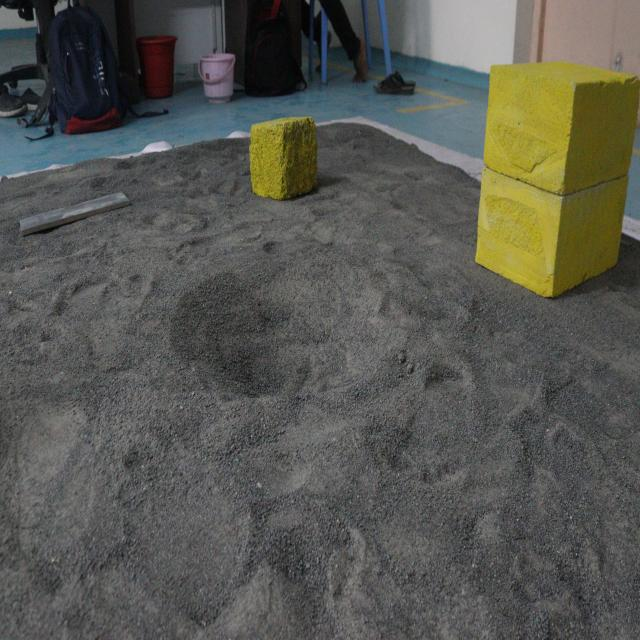box: (473, 50, 625, 291), (250, 125, 324, 206)
crater: (162, 256, 365, 401)
